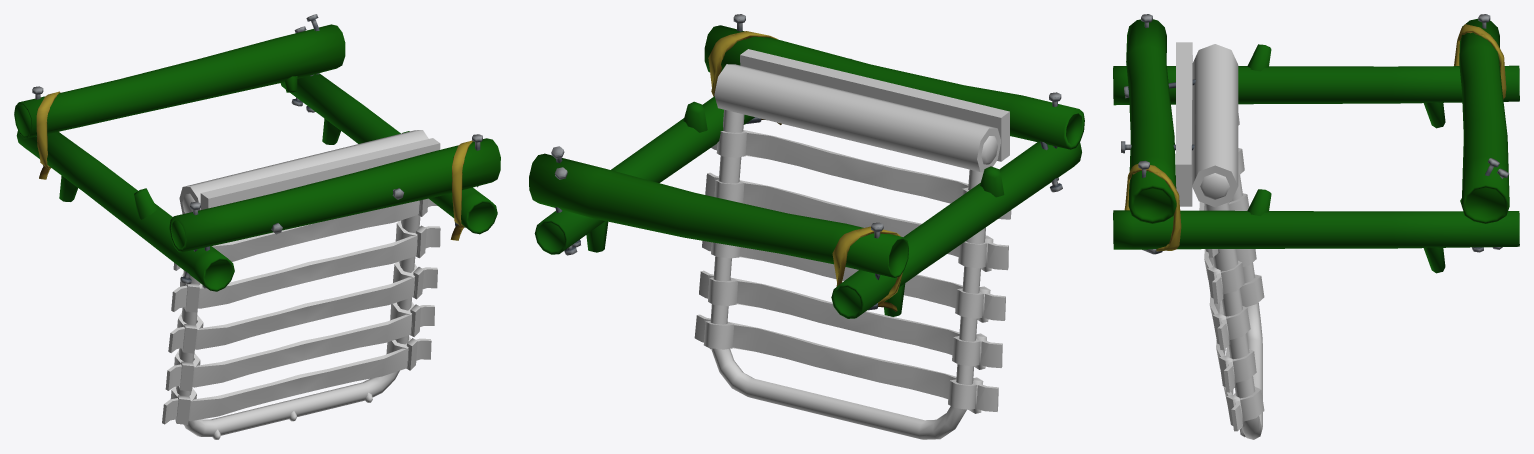
The model's file is Collector.fbx.
3 renders of one model, left to right at view 1: azimuth 30°, elevation 25°; view 2: azimuth 150°, elevation 25°; view 3: azimuth 270°, elevation 25°, orthographic. The views are drawn at different scales.
Parts seen in each view (by area): view 1: Cube.003; view 2: Cube.003; view 3: Cube.003.
Boxes of the visible parts, x1=… form: Cube.003: x1=14, y1=14, x2=500, y2=439; Cube.003: x1=529, y1=14, x2=1084, y2=439; Cube.003: x1=1113, y1=14, x2=1519, y2=439.
Size of the model in its own units: 6.21 by 5.41 by 6.43.
